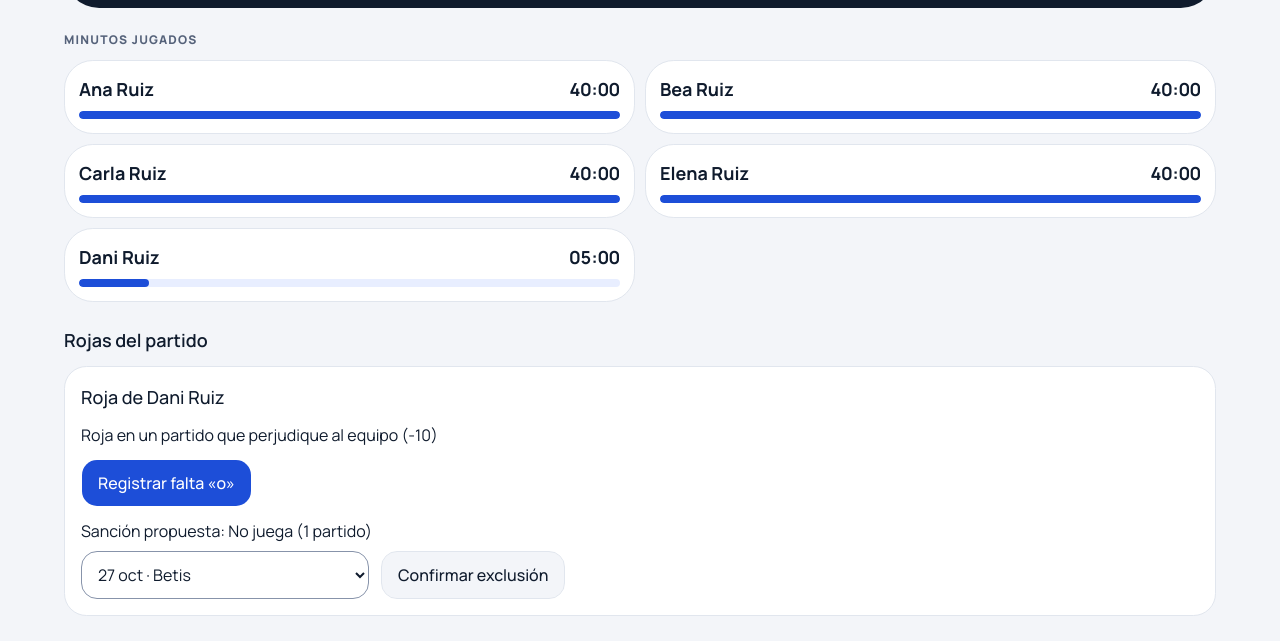
Test: rojas en el resumen del partido › propone la sanción del catálogo y la confirma en el partido siguiente elegido
(page scrolled)
Expected: the text "Sanción propuesta: No juega (1 partido)" is shown, [81,520,372,542]
Select "27 oct · Betis" in the dropdown named "Partido de la exclusión de Dani Ruiz": (225, 575) [81,551,369,599]
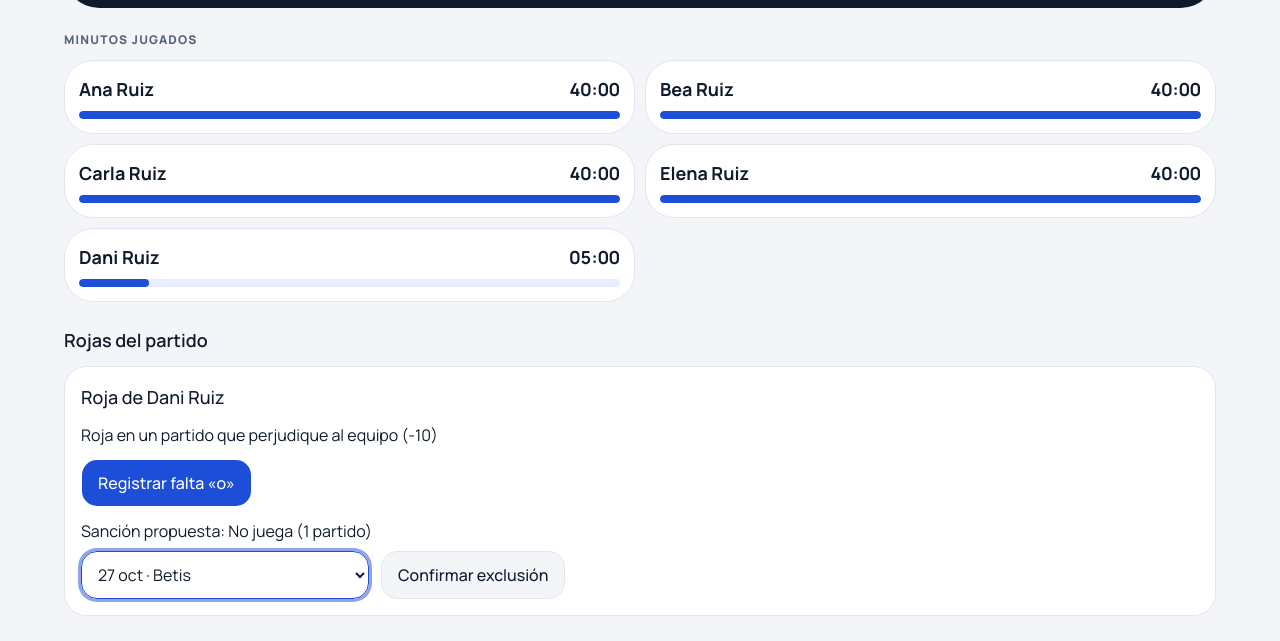
Click the button with aria-label "Confirmar exclusión de Dani Ruiz": (473, 575) [381,551,565,599]
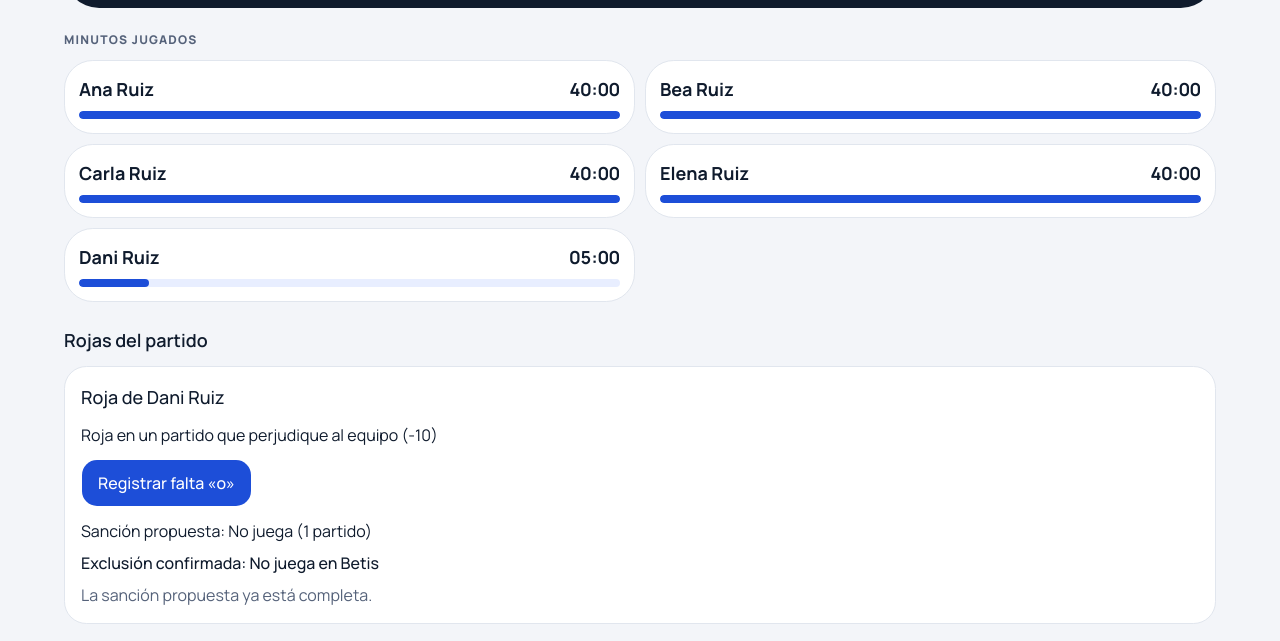
Expected: the text "Exclusión confirmada: No juega en Betis" is shown, [81,552,379,574]
